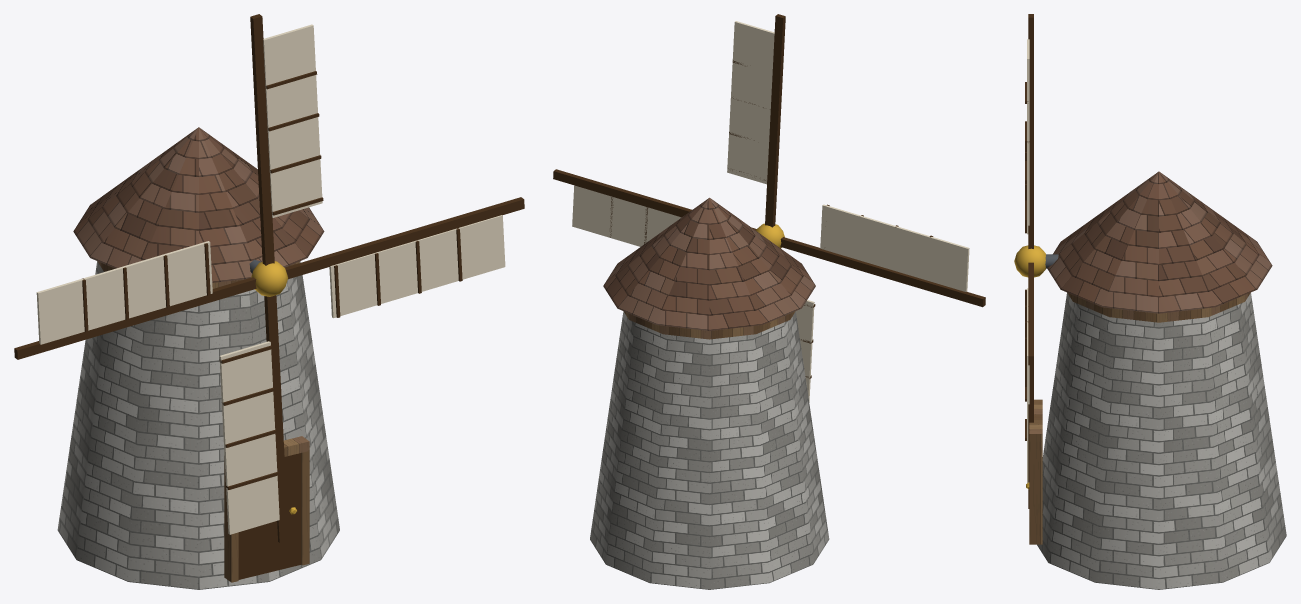
Rendered from windmill.glb.
The picture shows the model from 3 angles, left to right: view 1: azimuth 30°, elevation 25°; view 2: azimuth 150°, elevation 25°; view 3: azimuth 270°, elevation 25°; orthographic projection. The views are drawn at different scales.
Visible parts, largest first — view 1: windmill; view 2: windmill; view 3: windmill.
Boxes of the visible parts, x1,y1,x2,y2 form: windmill: [14, 14, 524, 589]; windmill: [553, 14, 985, 589]; windmill: [1014, 14, 1286, 589].
Size of the model in its own units: 5.6 by 6 by 2.88.
Materials: 7 (3 with a texture image).
